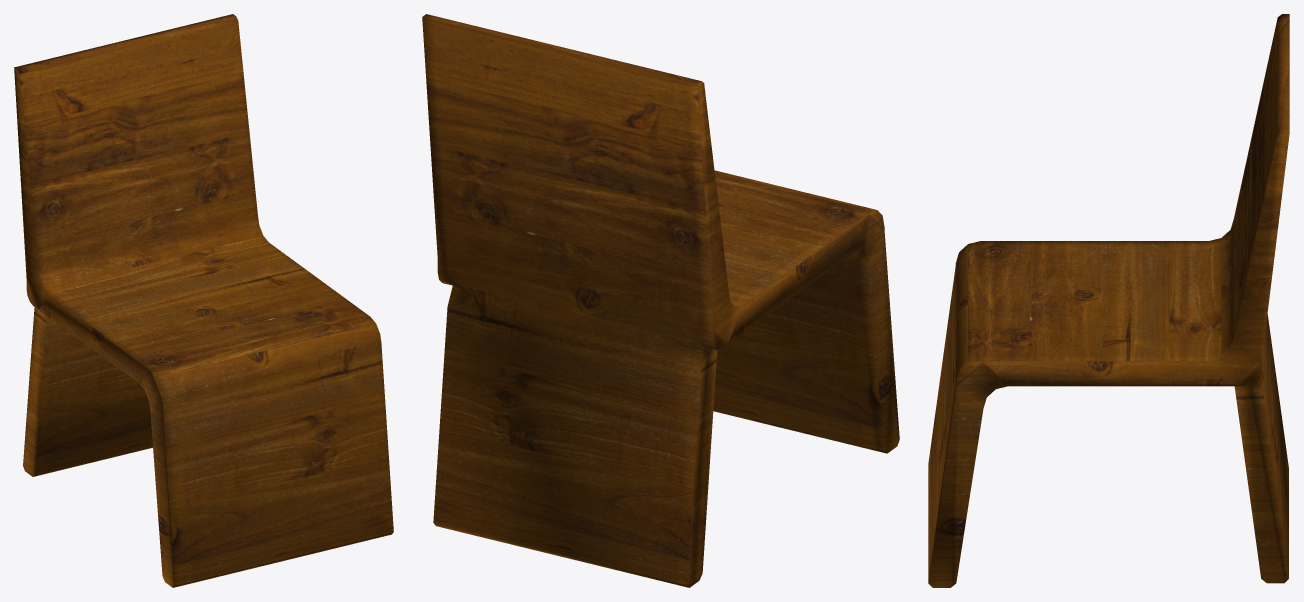
The picture shows the model from 3 angles, left to right: view 1: azimuth 30°, elevation 25°; view 2: azimuth 150°, elevation 25°; view 3: azimuth 270°, elevation 25°; orthographic projection. The views are drawn at different scales.
Visible parts, largest first — view 1: Cube; view 2: Cube; view 3: Cube.
Boxes of the visible parts, x1,y1,x2,y2 form: Cube: (14, 14, 393, 587); Cube: (422, 14, 899, 587); Cube: (928, 14, 1289, 587).
Size of the model in its own units: 1.13 by 2 by 1.44.
Materials: 1 (1 with a texture image).
